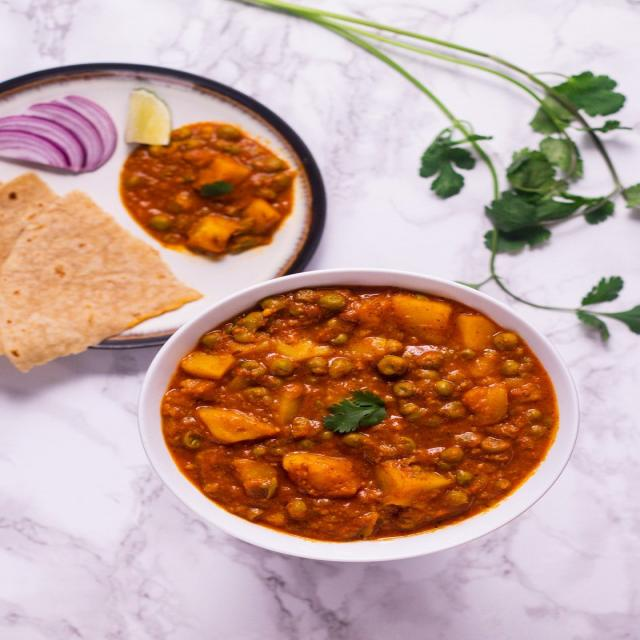Aloo Matar: (172, 307, 532, 534)
